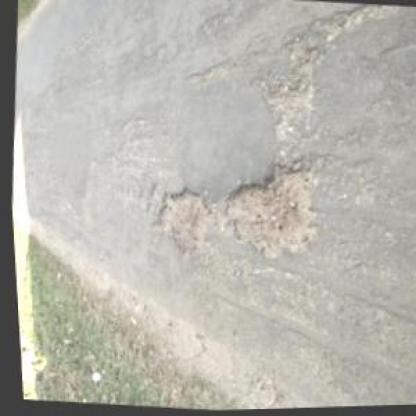pothole: (212, 155, 322, 266), (255, 32, 322, 134), (146, 186, 209, 256)
